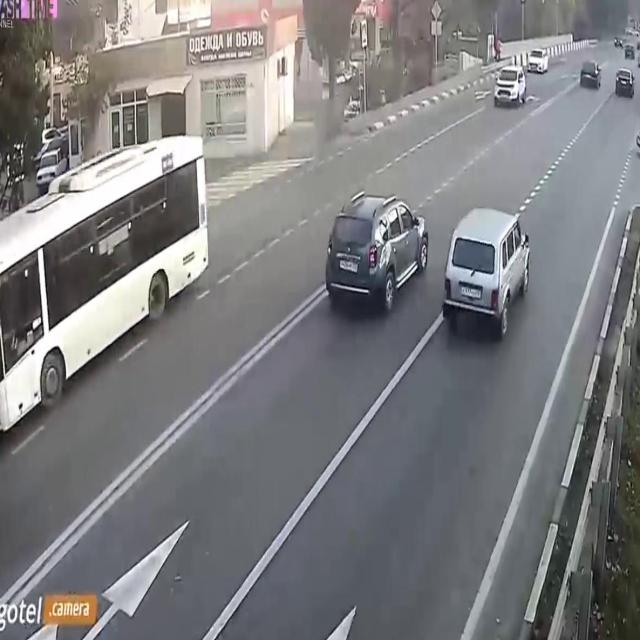non_accident: (322, 179, 541, 349), (489, 41, 551, 115), (577, 54, 637, 106)
